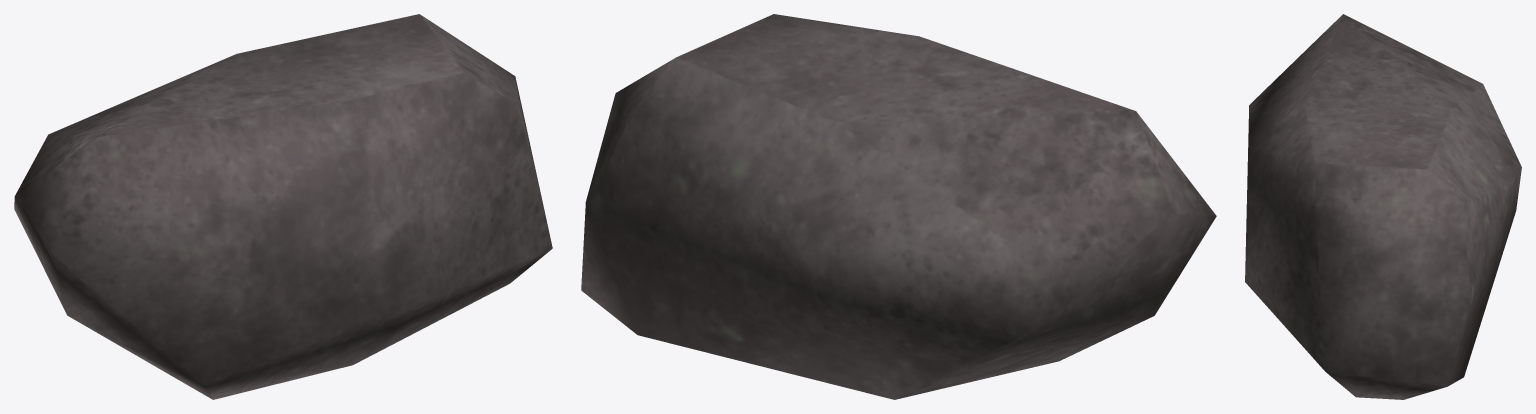
File: SM_SmallRock4.fbx
3 views of the same model, side by side, from view 1: azimuth 30°, elevation 25°; view 2: azimuth 150°, elevation 25°; view 3: azimuth 270°, elevation 25° (orthographic). The views are drawn at different scales.
Parts seen in each view (by area): view 1: SM_SmallRock4_LOD0; view 2: SM_SmallRock4_LOD0; view 3: SM_SmallRock4_LOD0.
Part boxes in pixels (<box>): SM_SmallRock4_LOD0: <box>14,14,552,399</box>; SM_SmallRock4_LOD0: <box>581,14,1216,399</box>; SM_SmallRock4_LOD0: <box>1245,14,1521,399</box>.
Bounding box in the file's own units: 30.25 × 17.14 × 15.34.
Materials: 1 (1 with a texture image).
